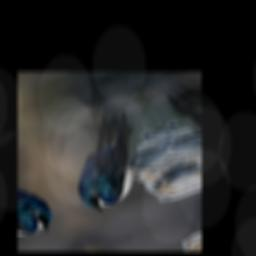Swallow: (43, 99, 166, 216)
